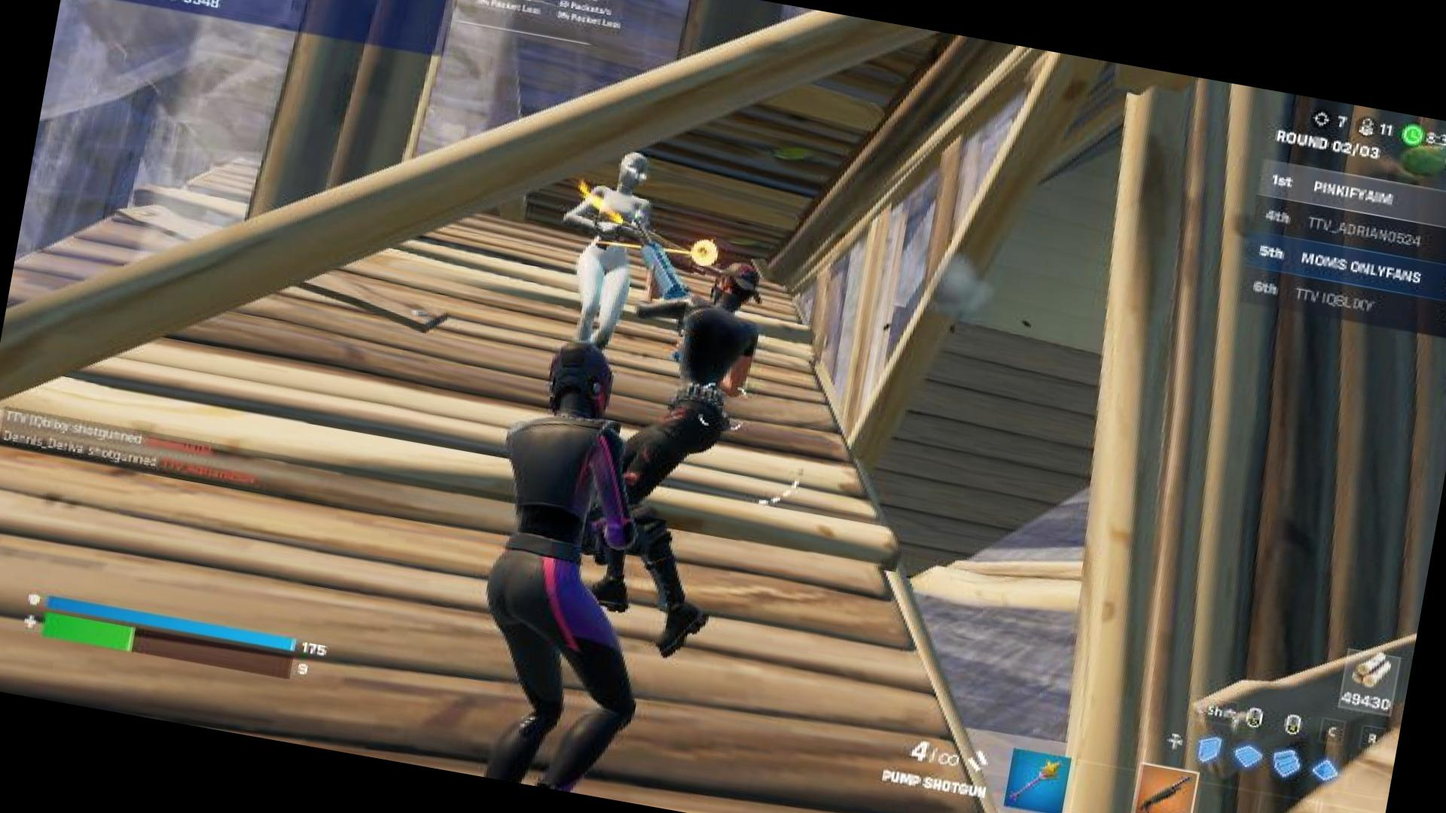player: (604, 240, 781, 668), (550, 140, 688, 370)
